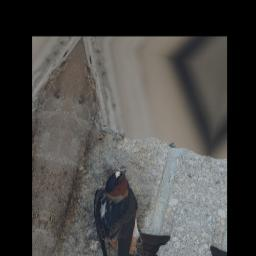Swallow: (76, 162, 182, 256)
